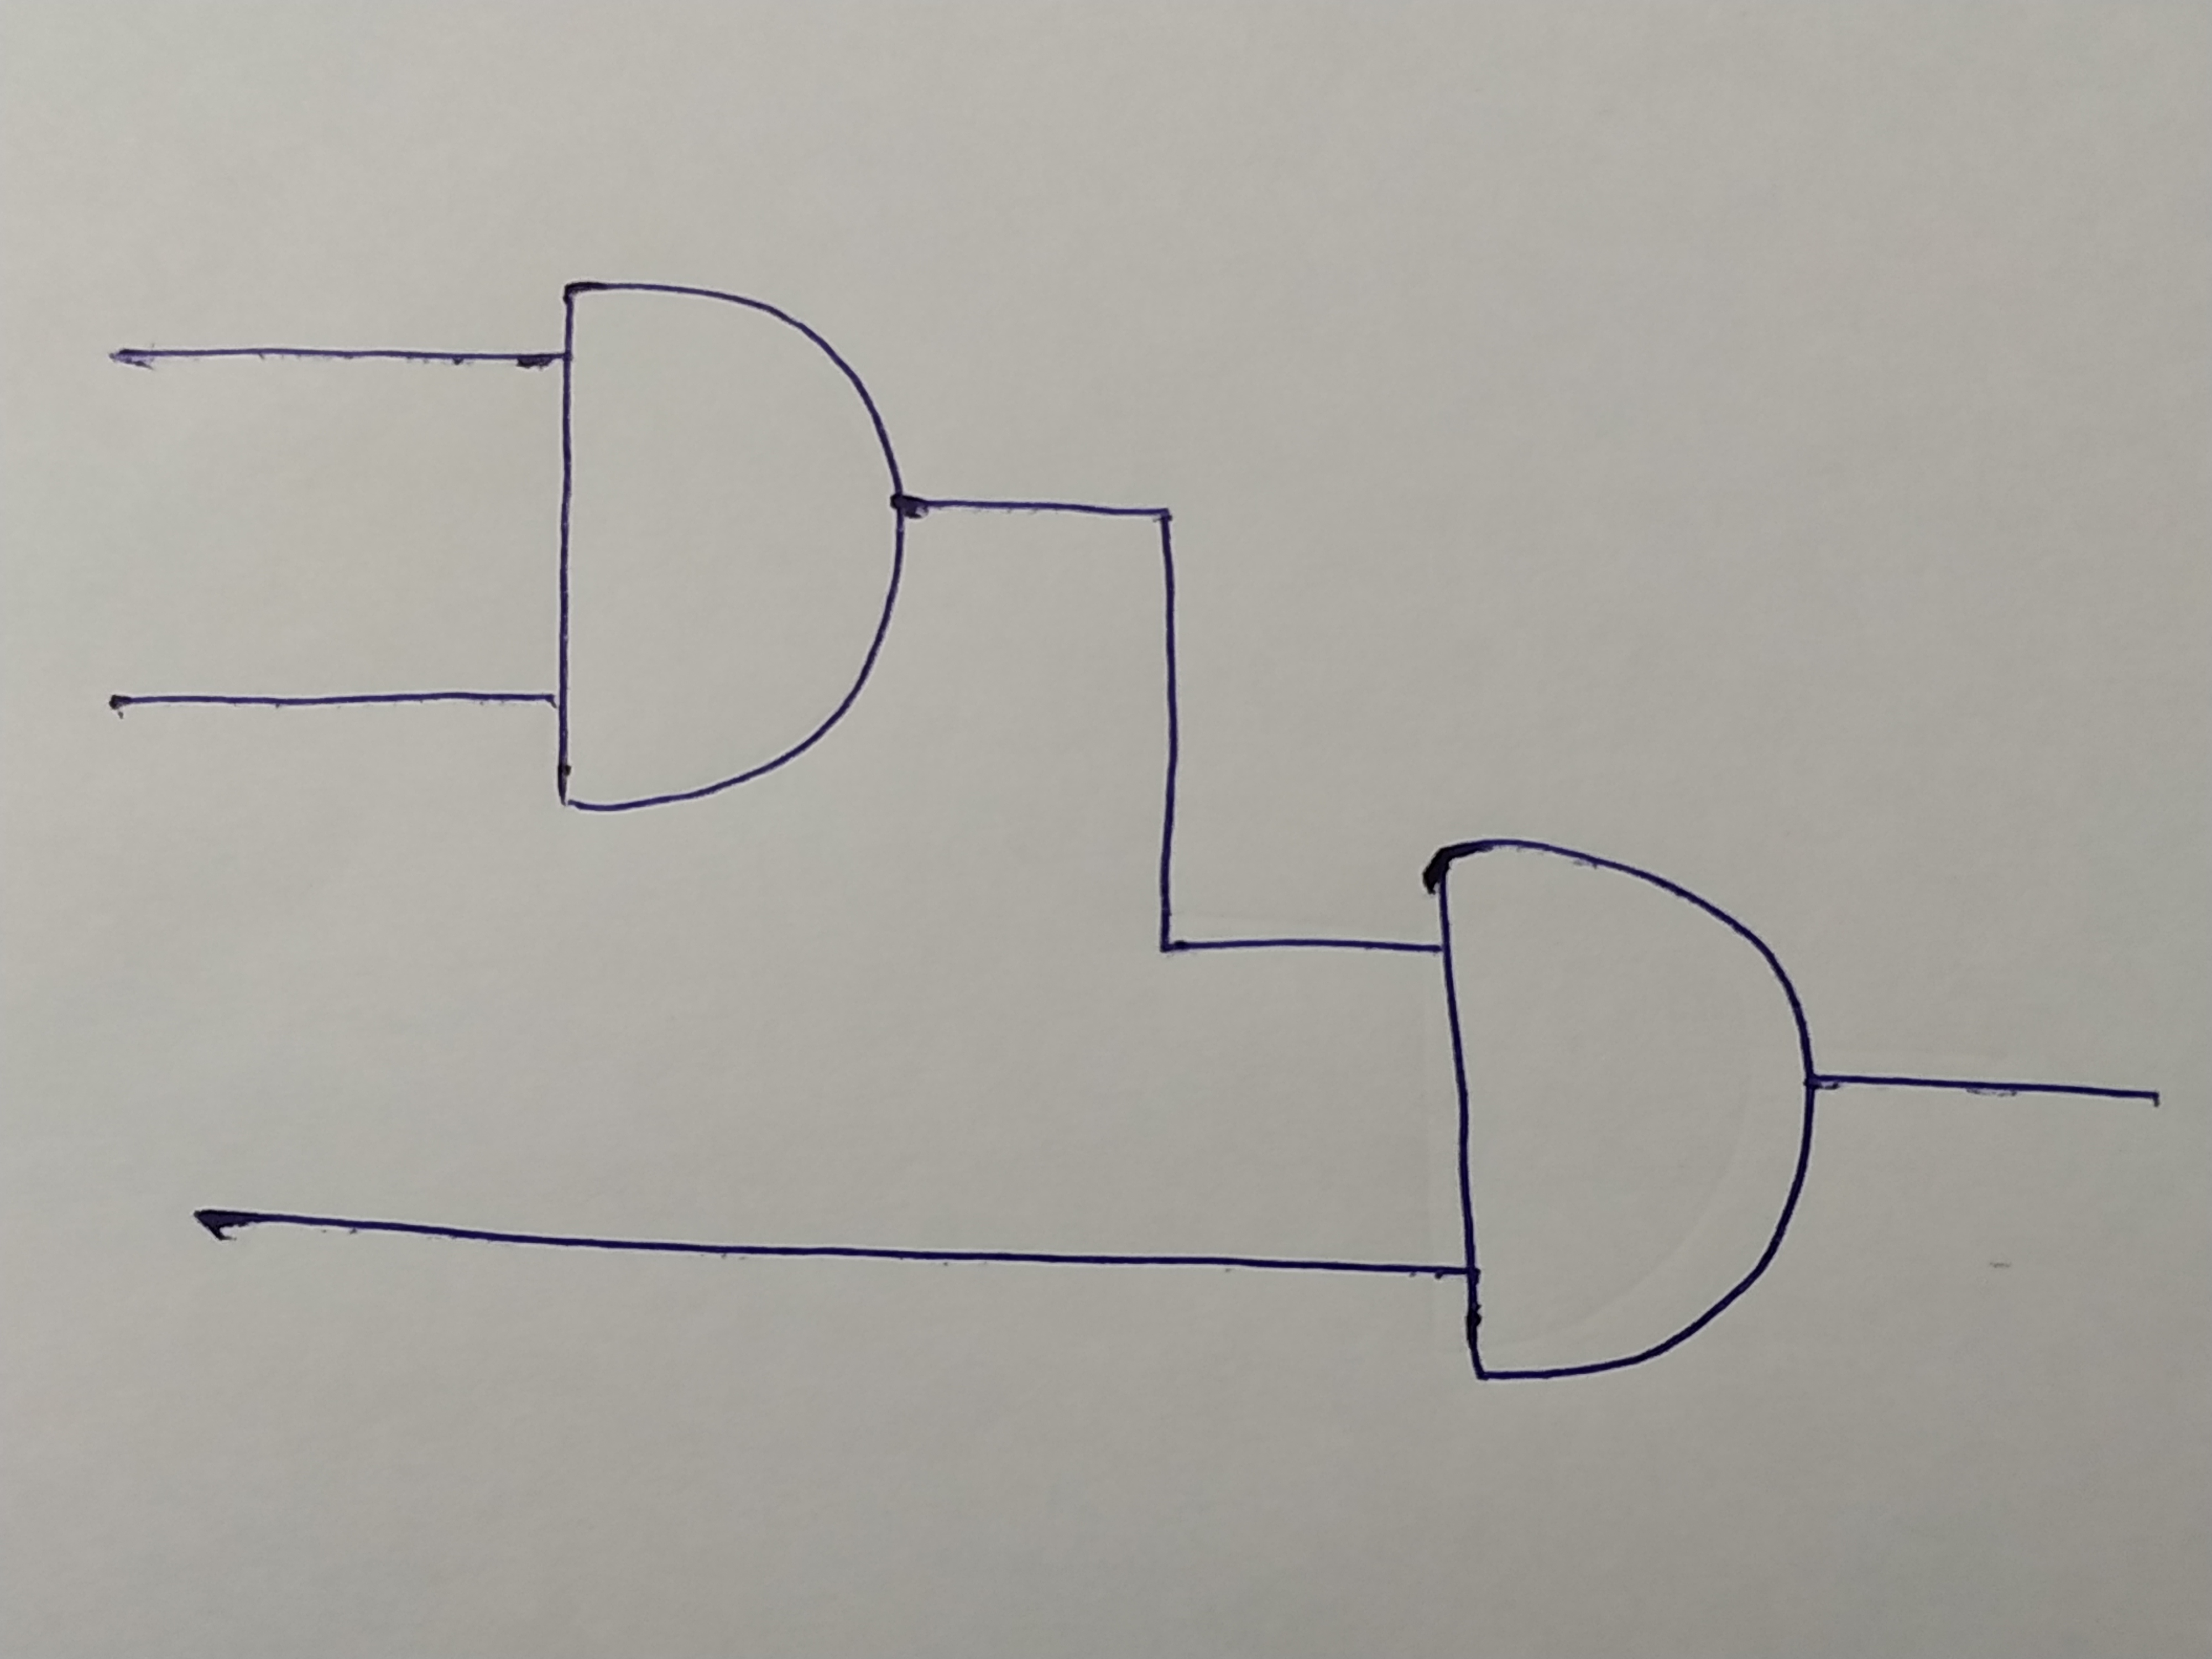and: (1416, 836, 1820, 1380), (559, 270, 906, 817)
